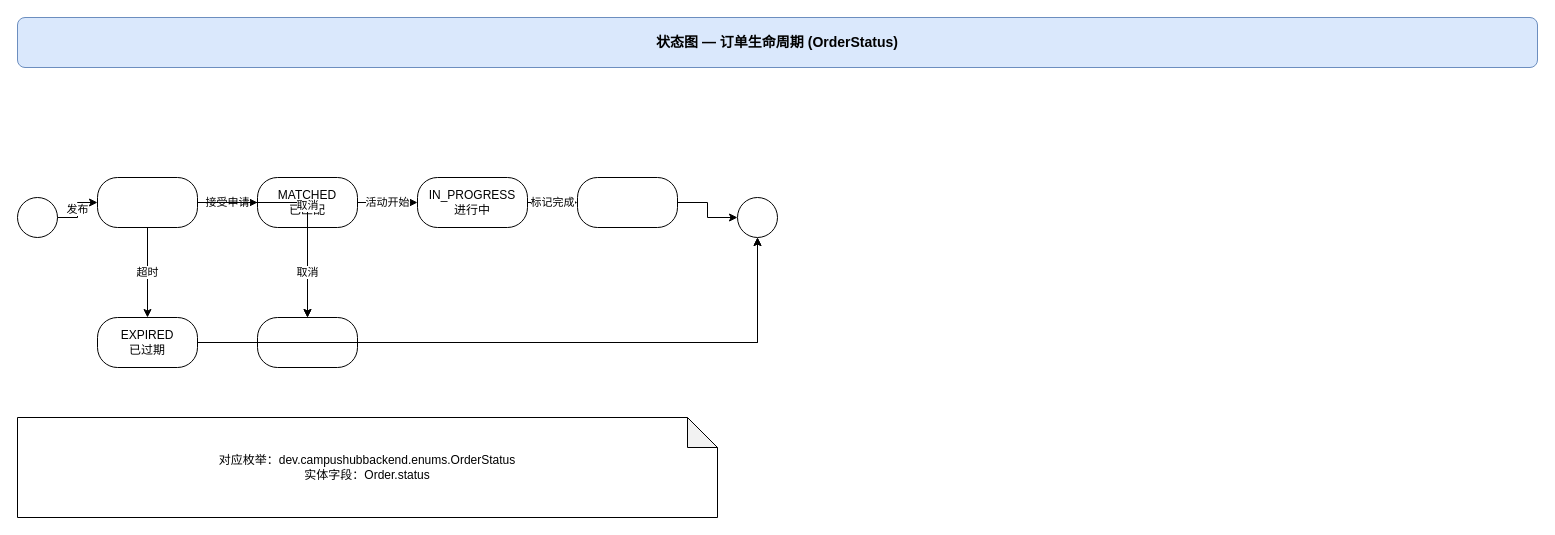
The diagram is 1555 pixels wide and 535 high, and some of its shapes have lost their labels. The centre of each missing label's shape, as x and y in pixels:
CANCELLED 已取消: the point at 307,342
COMPLETED 已完成: the point at 627,202
PENDING 待匹配: the point at 147,202
